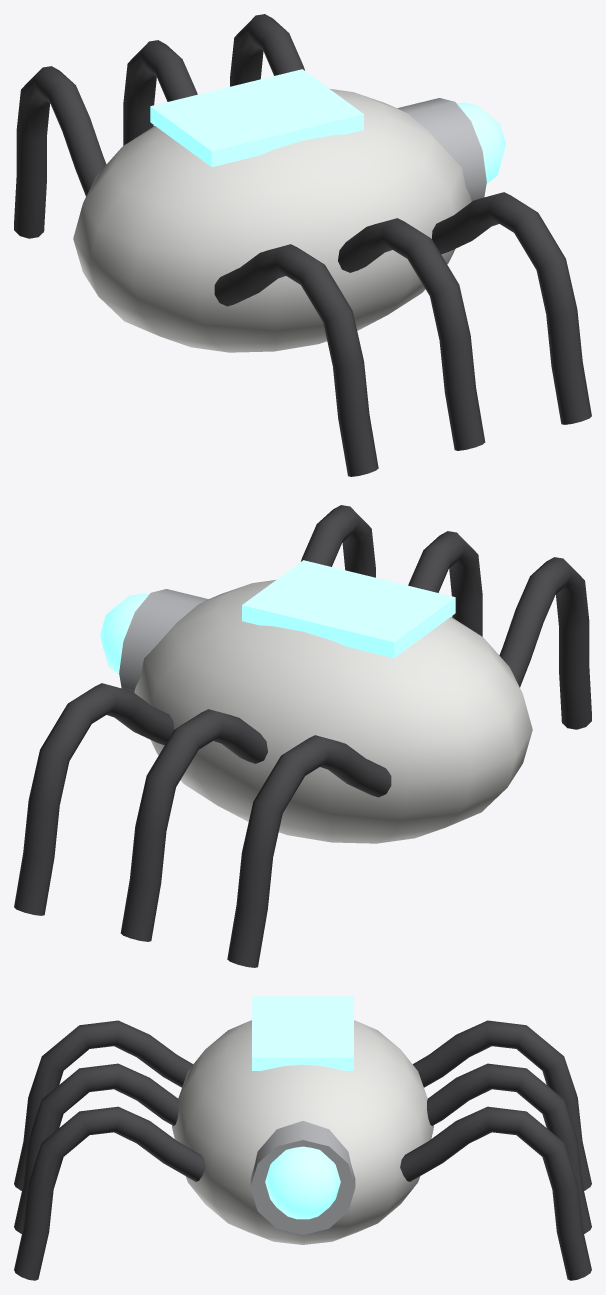
File: items.glb
The picture shows the model from 3 angles, top to bottom: view 1: azimuth 30°, elevation 25°; view 2: azimuth 150°, elevation 25°; view 3: azimuth 270°, elevation 25°; orthographic projection. The views are drawn at different scales.
Visible parts, largest first — view 1: NanobotBody, NanobotEye, NanobotLeg3.001, NanobotLeg5.001, NanobotLeg4.001, NanobotLeg0.001, NanobotLeg1.001, NanobotLeg2.001; view 2: NanobotBody, NanobotEye, NanobotLeg0.001, NanobotLeg2.001, NanobotLeg1.001, NanobotLeg3.001, NanobotLeg4.001, NanobotLeg5.001; view 3: NanobotBody, NanobotEye, NanobotLeg2.001, NanobotLeg5.001, NanobotLeg0.001, NanobotLeg3.001, NanobotLeg1.001, NanobotLeg4.001.
Boxes of the visible parts, x1,y1,x2,y2 form: NanobotBody: [73, 88, 486, 352]; NanobotEye: [150, 69, 505, 183]; NanobotLeg3.001: [214, 244, 378, 476]; NanobotLeg5.001: [432, 192, 591, 424]; NanobotLeg4.001: [338, 218, 485, 450]; NanobotLeg0.001: [14, 66, 106, 238]; NanobotLeg1.001: [123, 40, 197, 145]; NanobotLeg2.001: [230, 14, 304, 86]; NanobotBody: [119, 579, 532, 843]; NanobotEye: [100, 560, 455, 674]; NanobotLeg0.001: [227, 735, 391, 967]; NanobotLeg2.001: [14, 683, 173, 915]; NanobotLeg1.001: [120, 709, 267, 941]; NanobotLeg3.001: [499, 557, 591, 729]; NanobotLeg4.001: [408, 531, 482, 636]; NanobotLeg5.001: [301, 505, 375, 577]; NanobotBody: [172, 1020, 433, 1244]; NanobotEye: [252, 996, 353, 1219]; NanobotLeg2.001: [400, 1106, 591, 1280]; NanobotLeg5.001: [14, 1106, 205, 1280]; NanobotLeg0.001: [413, 1020, 591, 1190]; NanobotLeg3.001: [14, 1020, 192, 1190]; NanobotLeg1.001: [427, 1063, 591, 1233]; NanobotLeg4.001: [14, 1063, 178, 1233].
Size of the model in its own units: 1.34 by 0.7203 by 1.98.
